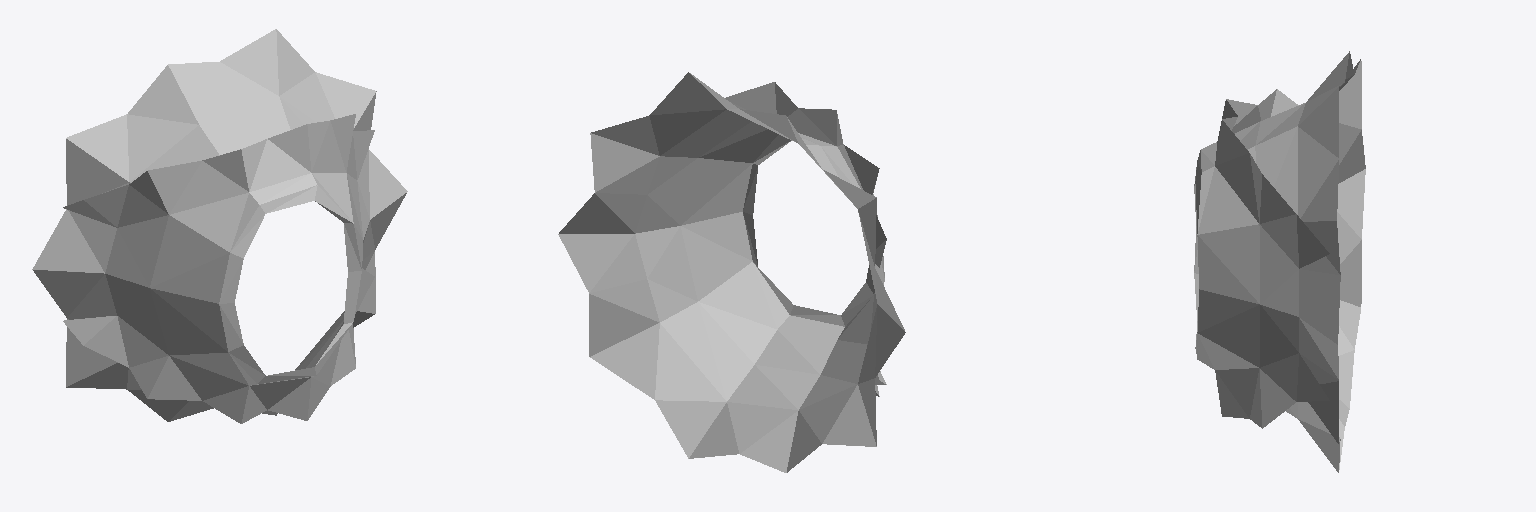
3 views of the same model, side by side, from view 1: azimuth 30°, elevation 25°; view 2: azimuth 150°, elevation 25°; view 3: azimuth 270°, elevation 25° (orthographic).
Parts seen in each view (by area): view 1: vr_downbody_001; view 2: vr_downbody_001; view 3: vr_downbody_001.
Part boxes in pixels (left/top/right/bottom): vr_downbody_001: left=32, top=29, right=407, bottom=423; vr_downbody_001: left=558, top=72, right=905, bottom=472; vr_downbody_001: left=1194, top=51, right=1365, bottom=472.
Size of the model in its own units: 49.58 by 50.69 by 20.38.